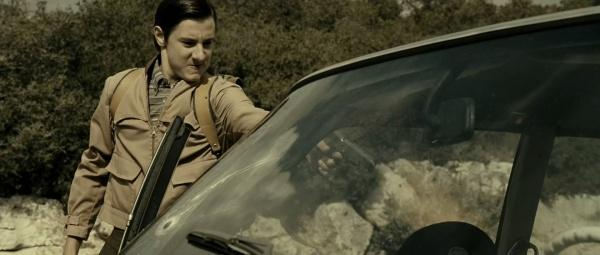Gun: (322, 130, 378, 173)
